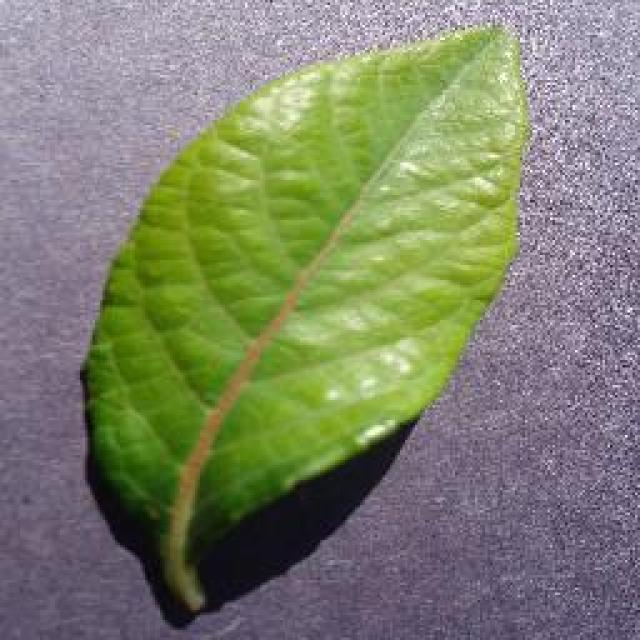Blu_healthy: (134, 96, 468, 474)
